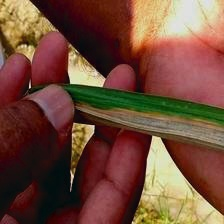Leaf_Blast: (41, 111, 215, 140)
